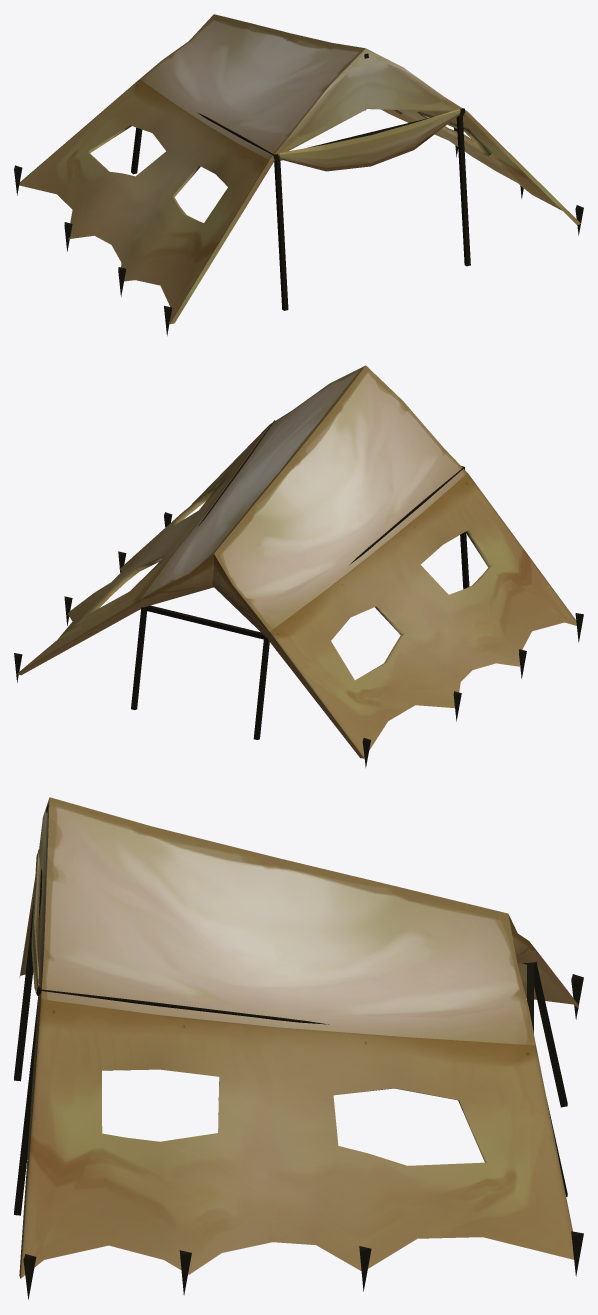
The model's file is Tent2.fbx.
3 renders of one model, top to bottom at view 1: azimuth 30°, elevation 25°; view 2: azimuth 150°, elevation 25°; view 3: azimuth 270°, elevation 25°, orthographic. The views are drawn at different scales.
Parts seen in each view (by area): view 1: Tent2; view 2: Tent2; view 3: Tent2.
Boxes of the visible parts, <box> form: Tent2: <box>14,14,583,335</box>; Tent2: <box>14,365,583,767</box>; Tent2: <box>14,797,583,1299</box>.
Size of the model in its own units: 630 by 337 by 492.
1 material, 1 textured.
